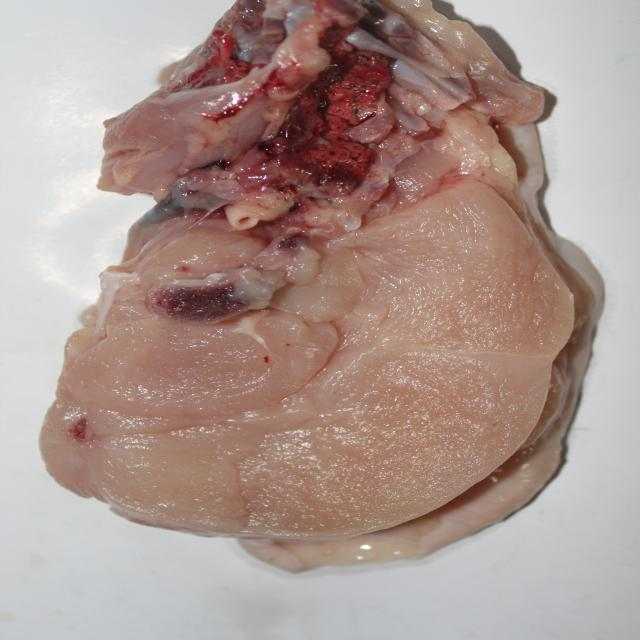Ayam: (49, 0, 594, 562)
